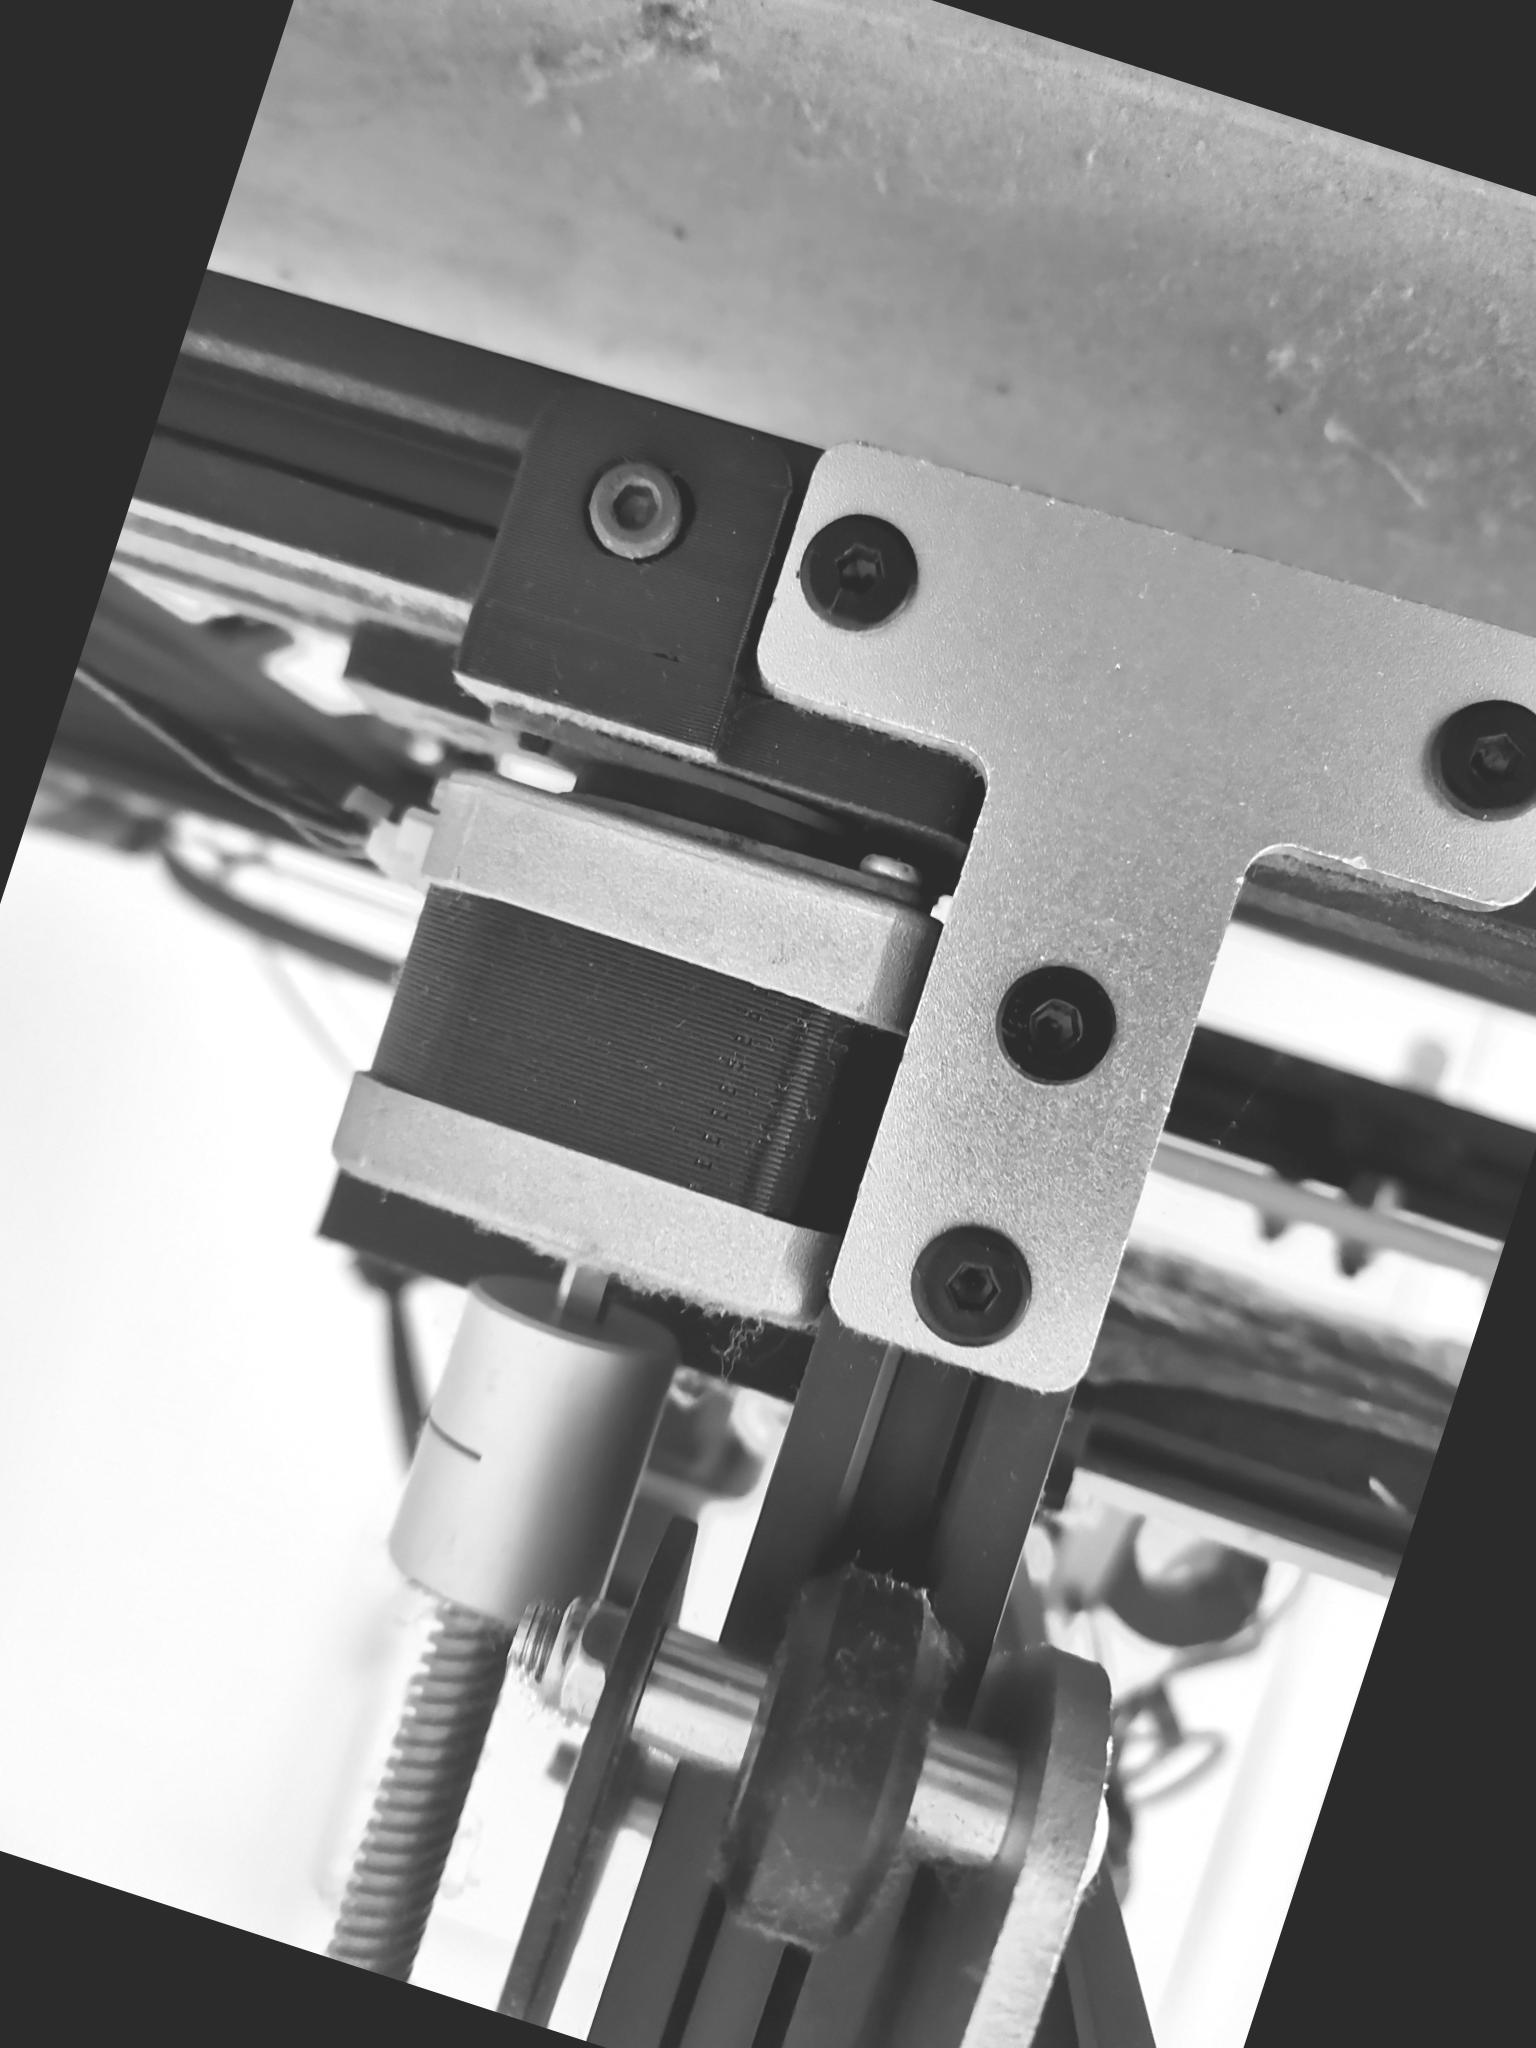screw: (976, 947, 1144, 1114), (884, 1197, 1050, 1363), (781, 492, 942, 653), (1404, 672, 1536, 842), (570, 435, 703, 572)
